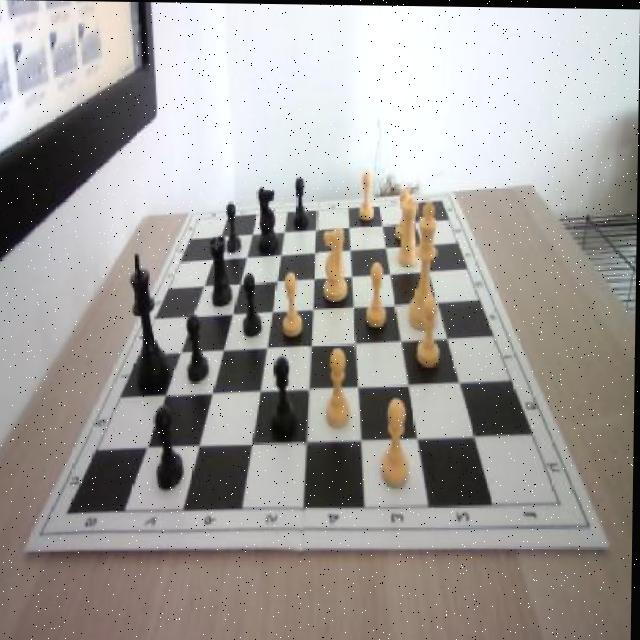black-bishop: (128, 254, 171, 390)
black-king: (257, 183, 280, 255)
black-knight: (156, 405, 186, 489), (272, 354, 299, 438), (187, 313, 212, 383), (241, 271, 263, 338), (226, 201, 242, 254), (293, 174, 309, 225)
black-queen: (209, 235, 233, 307)
white-bishop: (409, 200, 444, 331)
white-king: (323, 224, 350, 302)
white-knight: (381, 397, 414, 487), (323, 344, 355, 429), (416, 293, 444, 369), (366, 262, 391, 329), (282, 269, 303, 336), (357, 172, 376, 221), (395, 188, 413, 238)
white-queen: (397, 196, 421, 266)
